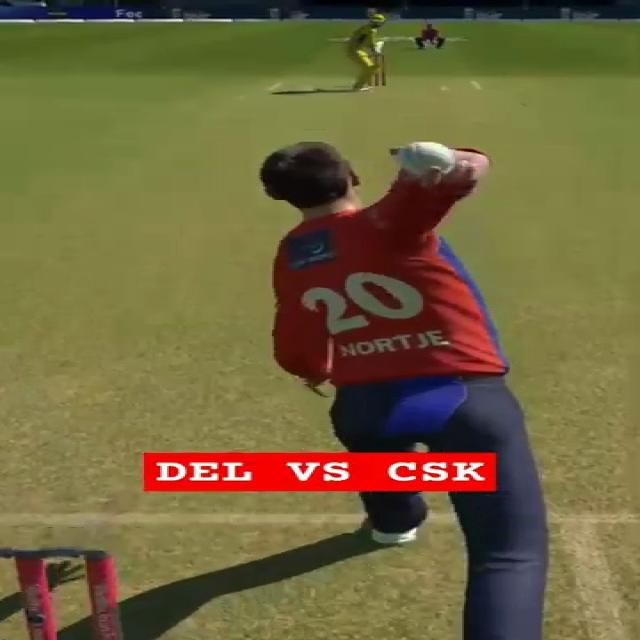ball: (393, 141, 455, 175)
